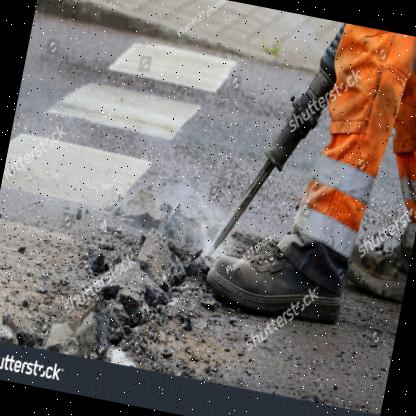bota: (198, 231, 352, 332), (343, 226, 414, 304)
